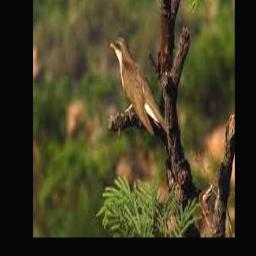Cuckoo: (109, 35, 169, 137)
